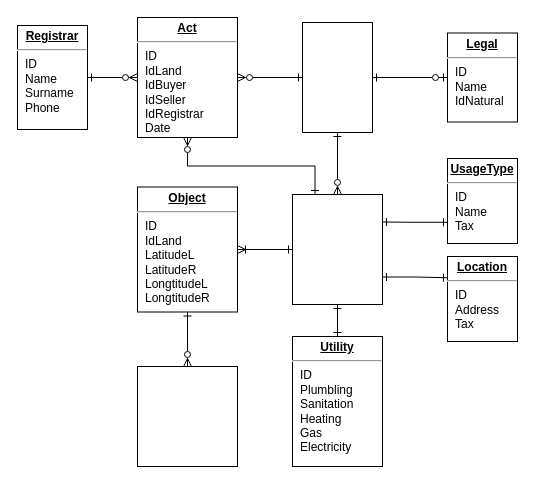
This 535x484 diagram has some shape labels left out. Each missing label, with the centre of its shape:
"Land ID IdOwner IdLocation IdUsageType IdUtility" goes at (x=337, y=249).
"Natural ID Name Surname BDDate Phone" goes at (x=337, y=77).
"Resource ID IdObject Name Tax" goes at (x=187, y=416).
